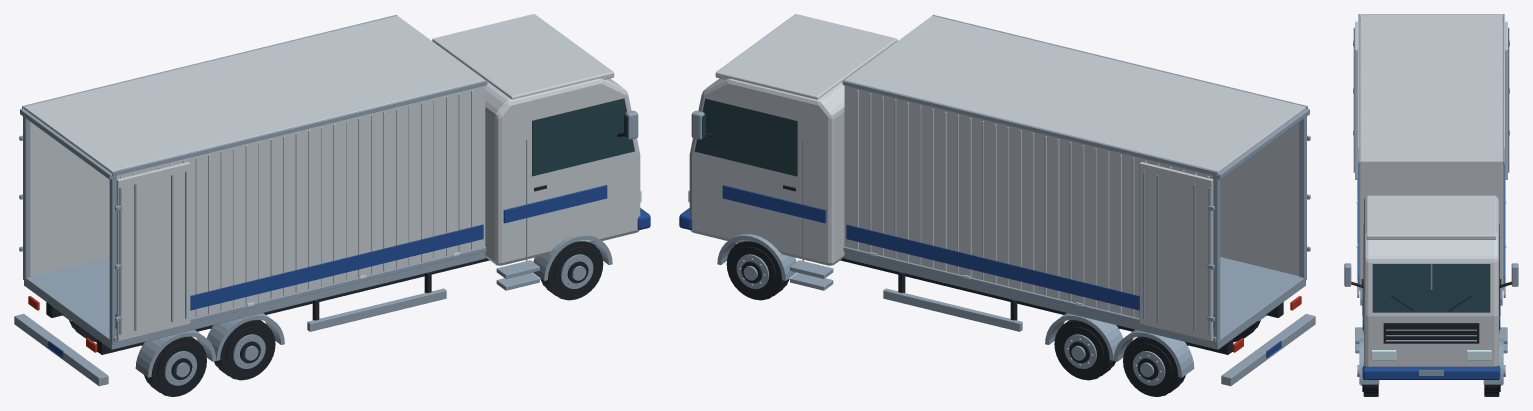
Rendered from SM_GHS_V2DockTruck.fbx.
3 renders of one model, left to right at view 1: azimuth 30°, elevation 25°; view 2: azimuth 150°, elevation 25°; view 3: azimuth 270°, elevation 25°, orthographic. The views are drawn at different scales.
Parts seen in each view (by area): view 1: SM_GHS_V2DockTruck; view 2: SM_GHS_V2DockTruck; view 3: SM_GHS_V2DockTruck.
Boxes of the visible parts, bbox=[...] form: SM_GHS_V2DockTruck: bbox=[14, 14, 650, 396]; SM_GHS_V2DockTruck: bbox=[679, 14, 1315, 396]; SM_GHS_V2DockTruck: bbox=[1344, 14, 1518, 396].
Bounding box in the file's own units: 890 × 300 × 374.
